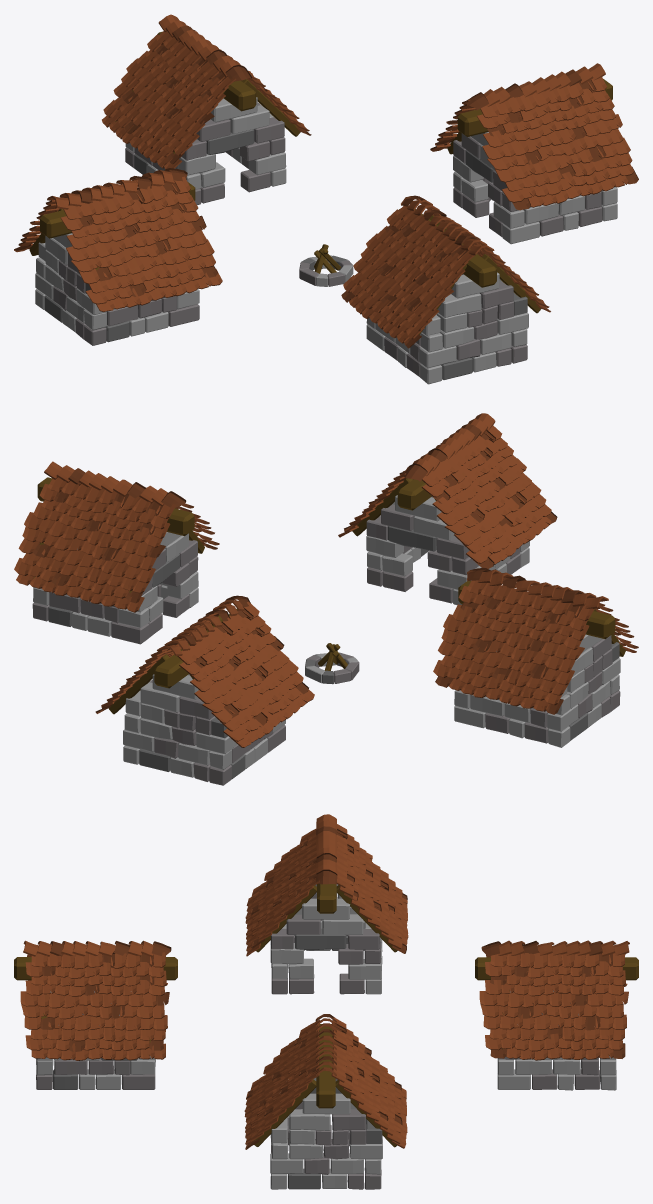
Rendered from VillageCenter.fbx.
3 renders of one model, top to bottom at view 1: azimuth 30°, elevation 25°; view 2: azimuth 150°, elevation 25°; view 3: azimuth 270°, elevation 25°, orthographic. The views are drawn at different scales.
Visible parts, largest first — view 1: Haus; view 2: Haus; view 3: Haus.
Boxes of the visible parts, x1,y1,x2,y2 form: Haus: [14, 14, 638, 384]; Haus: [14, 413, 638, 785]; Haus: [14, 814, 638, 1189].
Bounding box in the file's own units: 7683 × 1853 × 7682.
